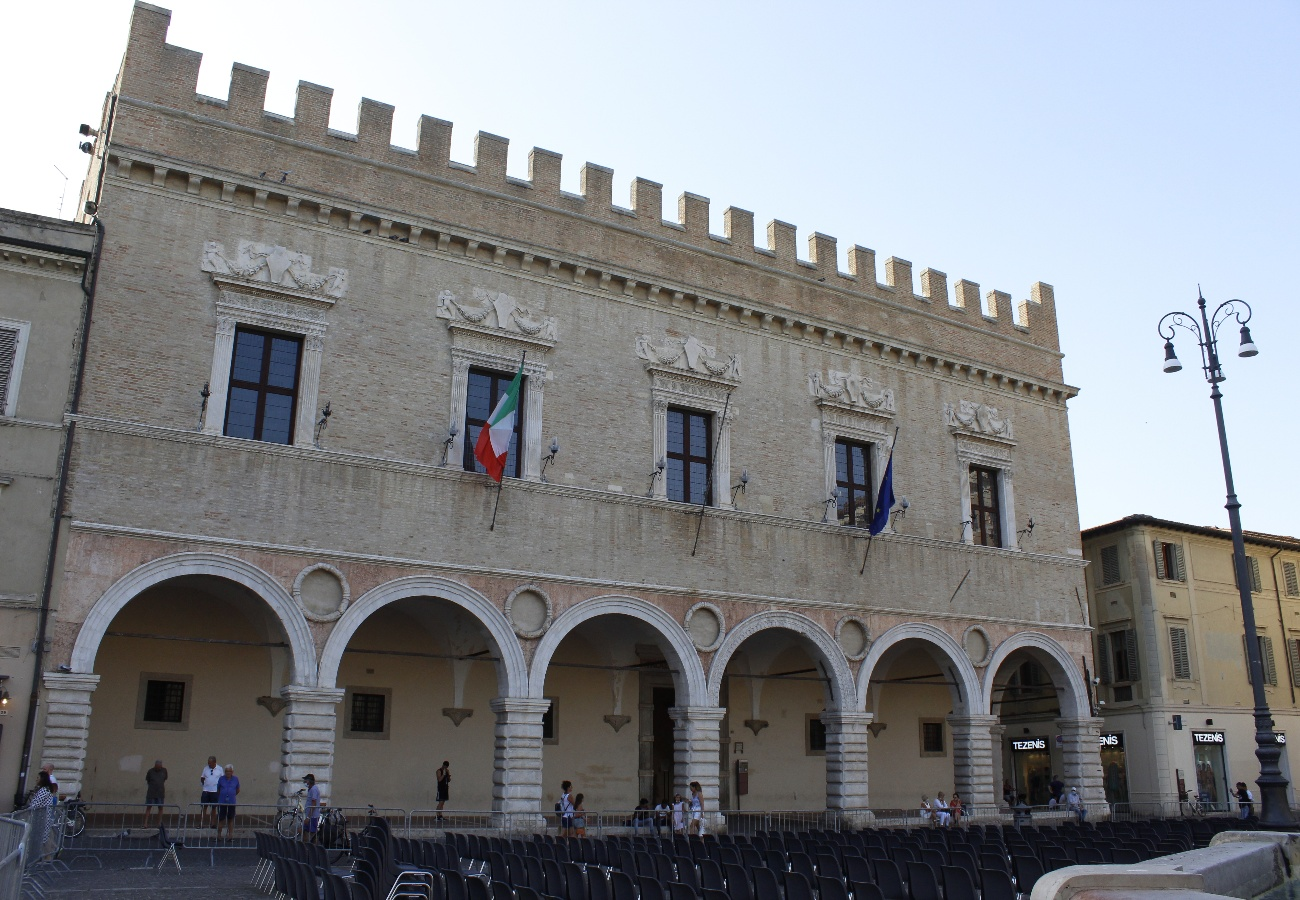Palazzo Ducale: (52, 1, 1105, 819)
